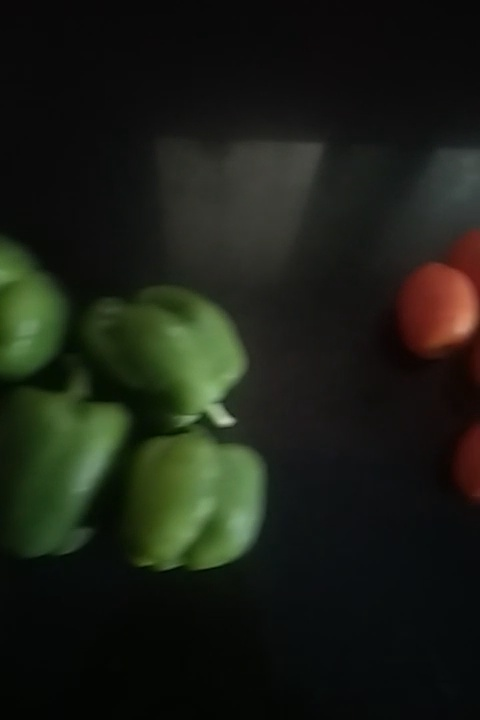capsicum: (84, 282, 259, 427), (115, 435, 279, 582), (1, 388, 122, 567), (1, 246, 62, 385)
tomato: (381, 264, 477, 366), (454, 422, 480, 500)
